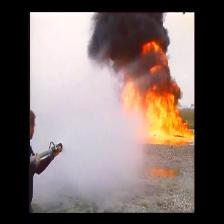fire: (145, 99, 185, 140)
smoke: (97, 13, 167, 44), (108, 49, 154, 68)
